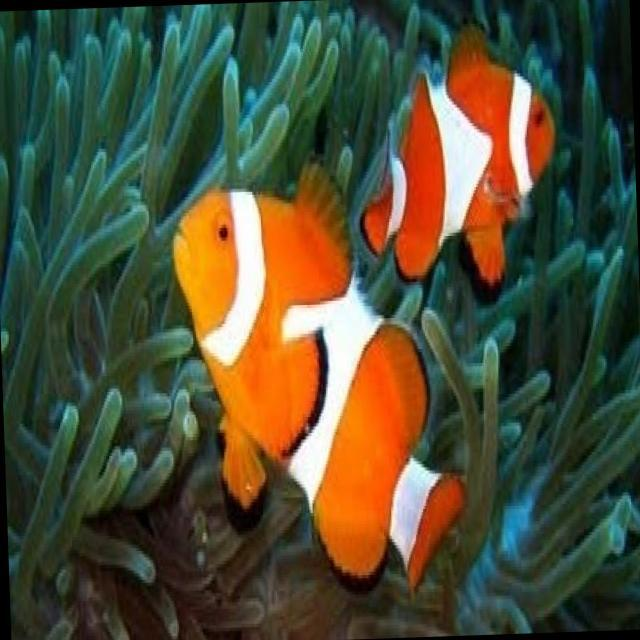ClownFish: (166, 165, 463, 598), (356, 26, 556, 289)
